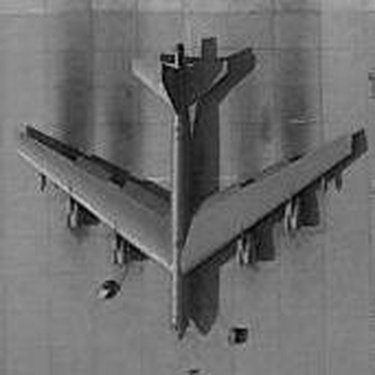airplane: (16, 21, 363, 351)
